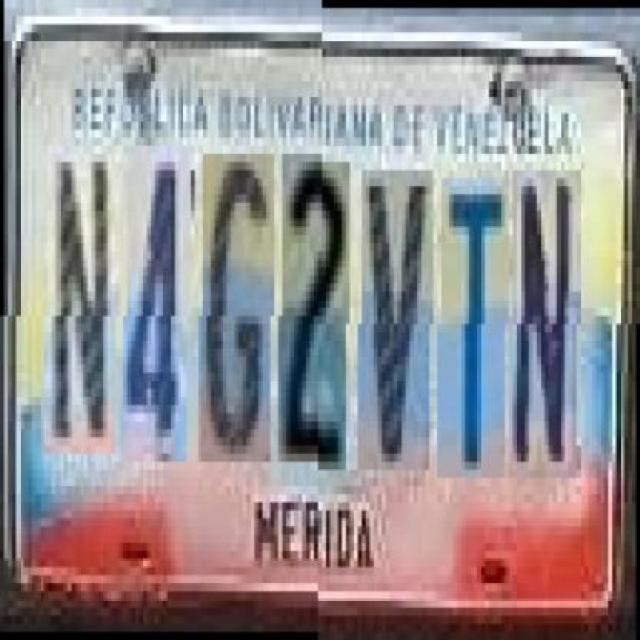2: (282, 162, 350, 470)
4: (128, 154, 190, 471)
g: (203, 162, 274, 470)
n: (48, 154, 120, 461), (512, 170, 580, 478)
t: (442, 178, 509, 478)
v: (361, 170, 434, 470)
